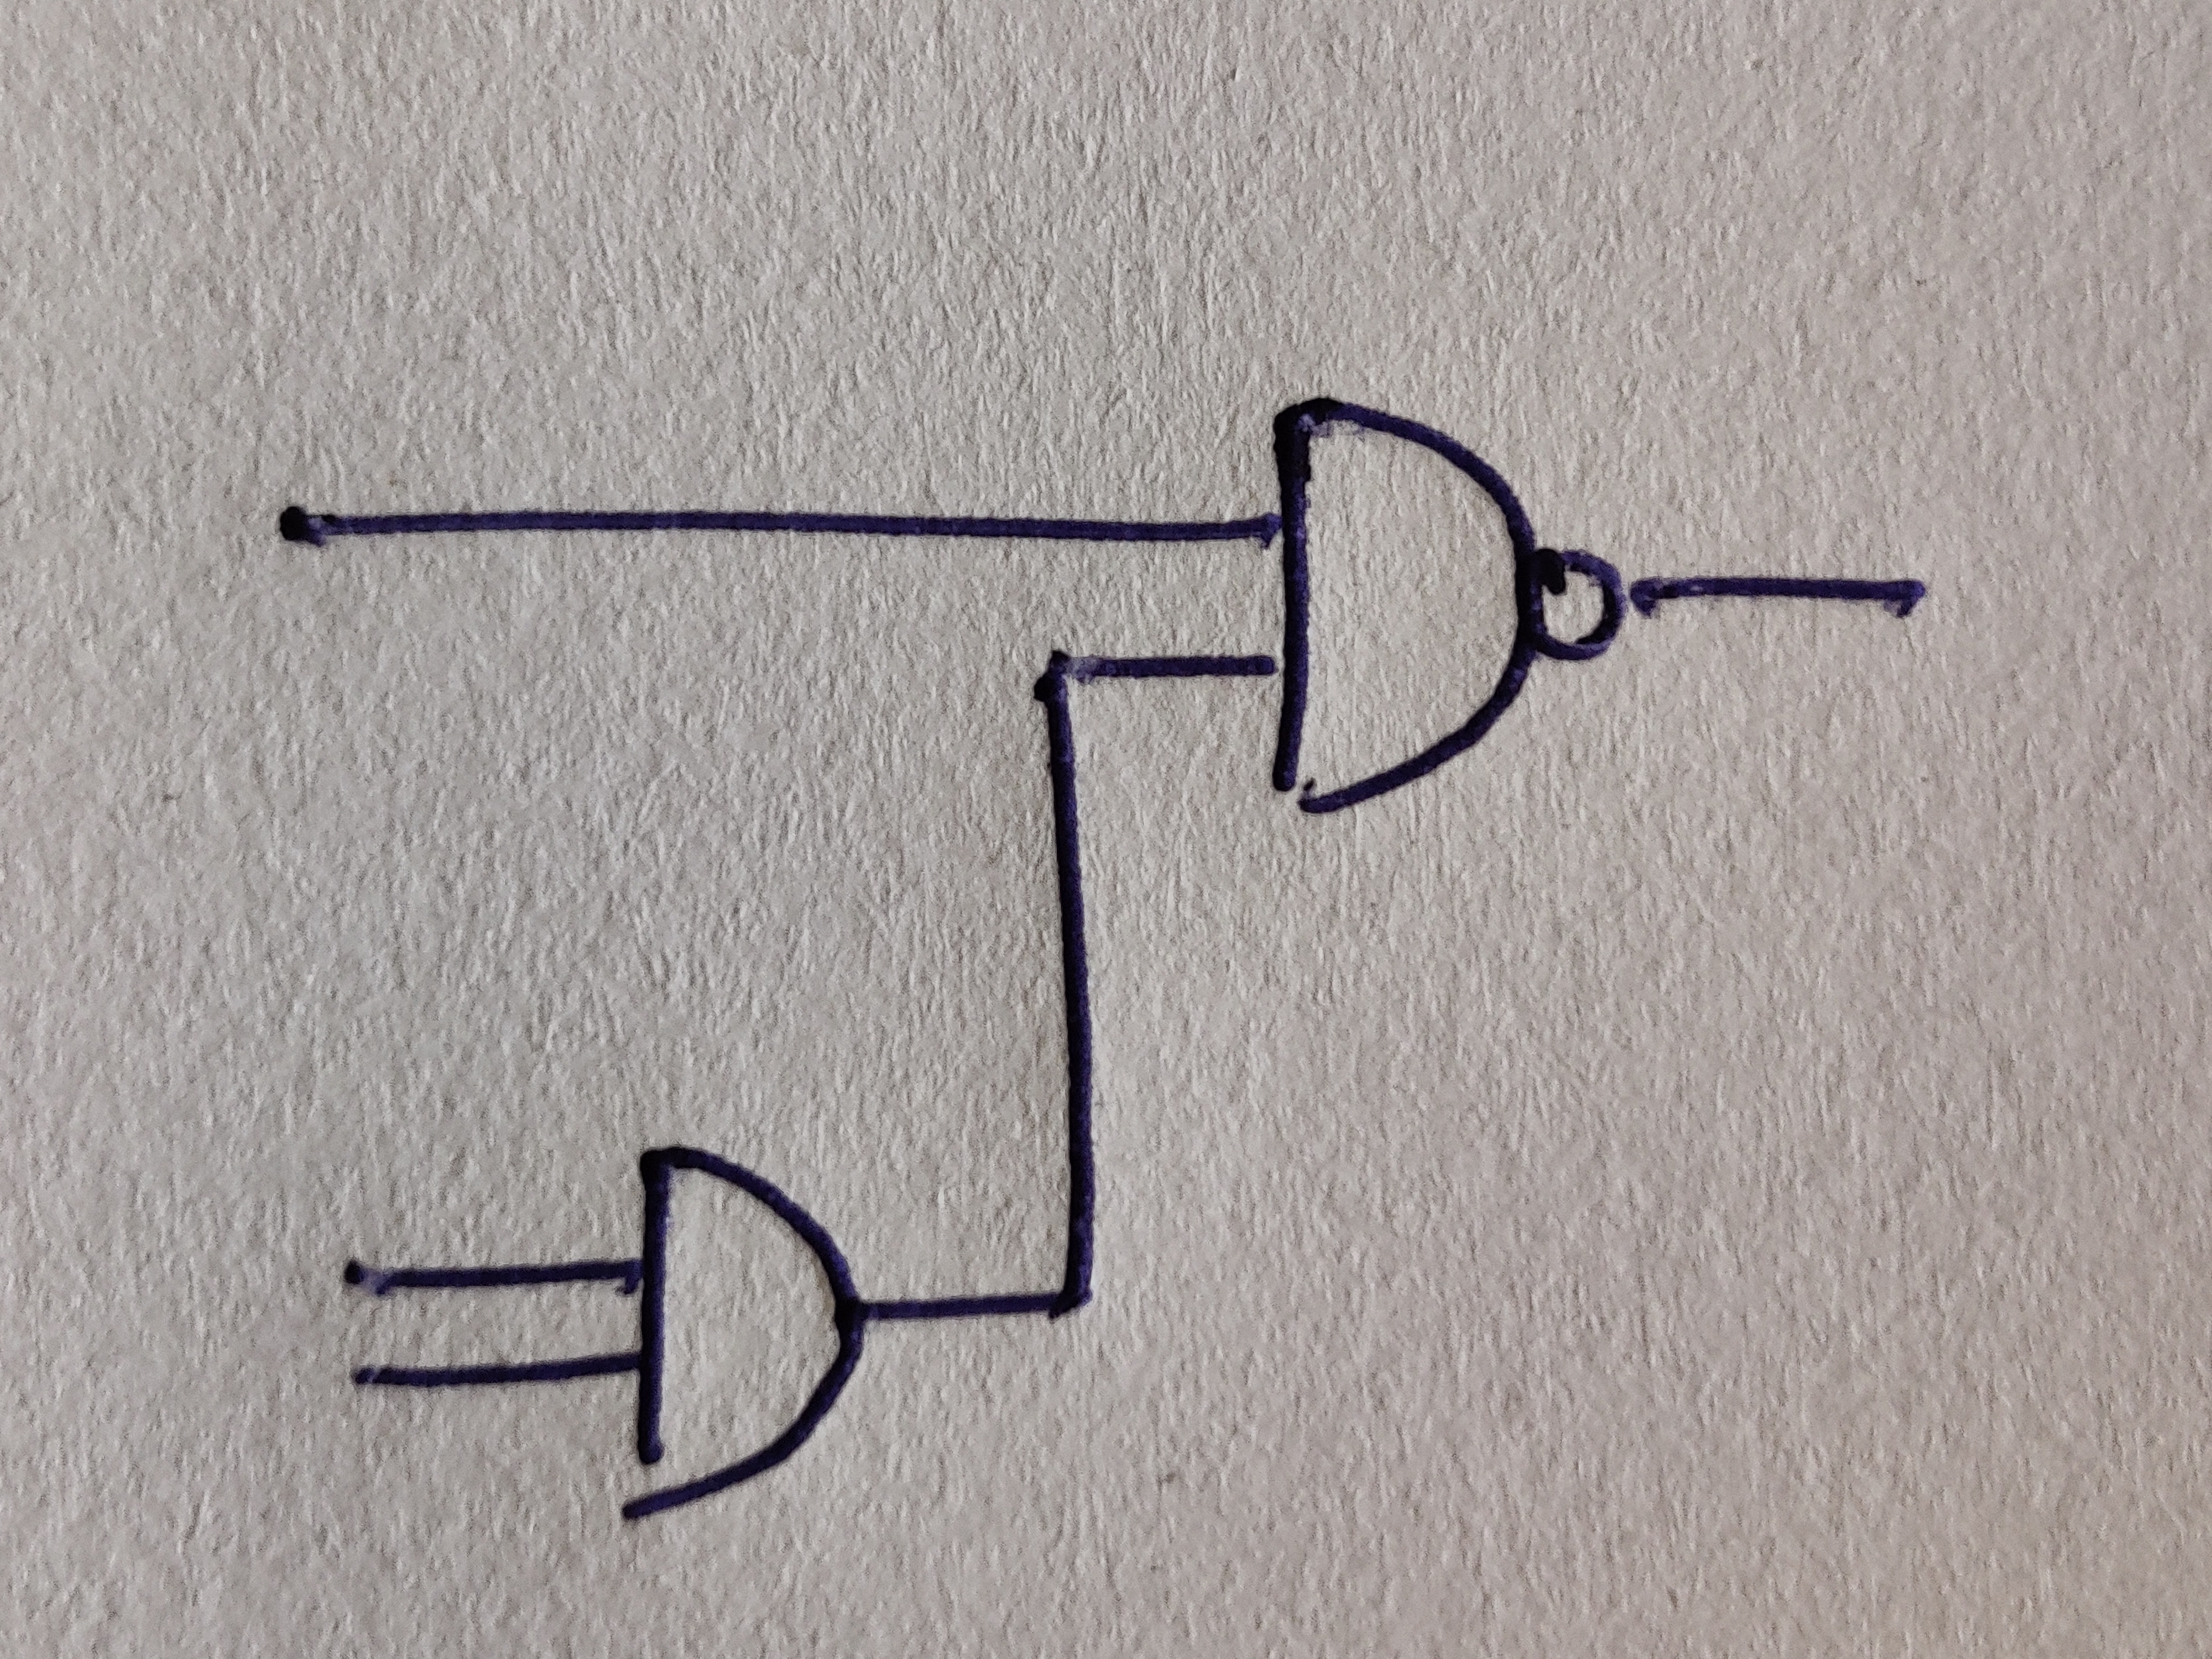and: (1271, 396, 1534, 812), (625, 1147, 862, 1521)
not: (1531, 544, 1627, 664)
